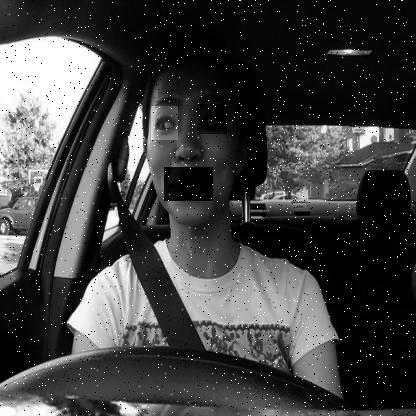seatbelt: (124, 32, 274, 346)
